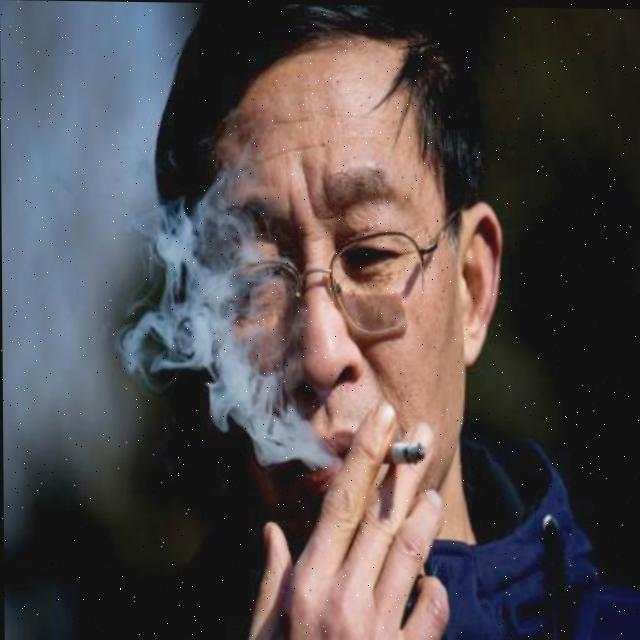cigarette: (382, 442, 428, 463)
